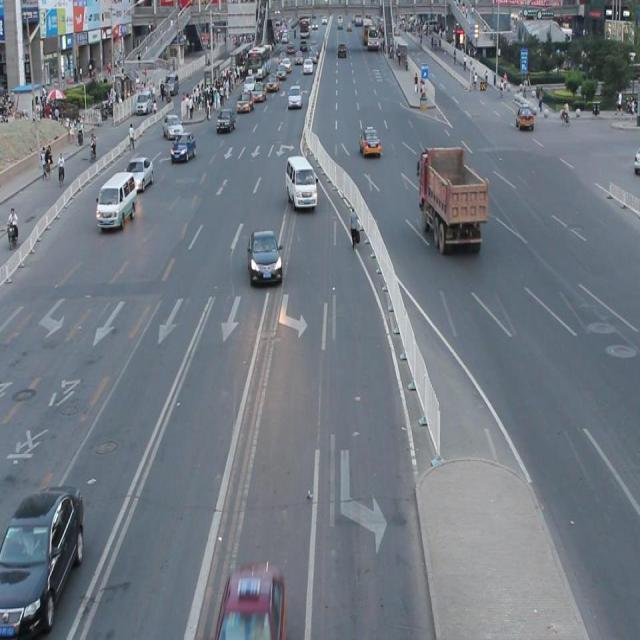bus: (416, 146, 487, 255)
car: (0, 483, 85, 640), (247, 230, 282, 288), (125, 156, 154, 194)
truck: (96, 171, 137, 232), (284, 155, 318, 210)
